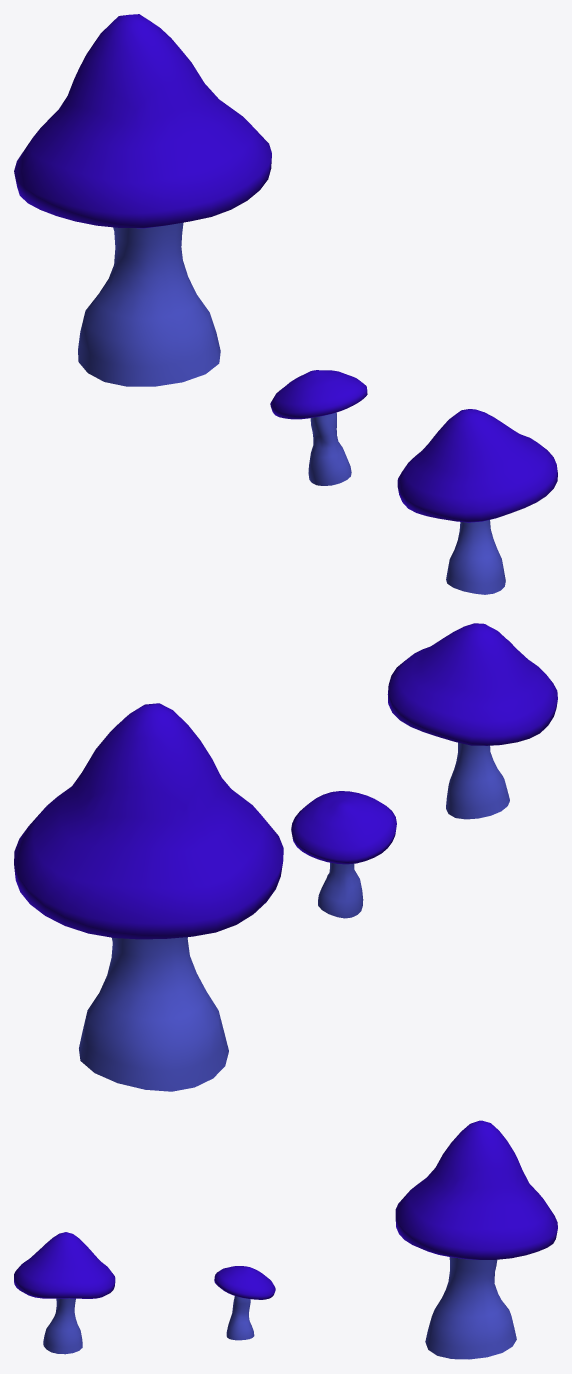
3 renders of one model, top to bottom at view 1: azimuth 30°, elevation 25°; view 2: azimuth 150°, elevation 25°; view 3: azimuth 270°, elevation 25°, orthographic. The views are drawn at different scales.
Visible parts, largest first — view 1: Hat 1, Stem1, Hat3, Hat2, Stem3, Stem2; view 2: Hat 1, Stem1, Hat3, Hat2, Stem3, Stem2; view 3: Hat 1, Stem1, Hat3, Stem3, Hat2, Stem2.
Boxes of the visible parts, bbox=[...] form: Hat 1: bbox=[14, 14, 271, 228]; Stem1: bbox=[78, 222, 220, 386]; Hat3: bbox=[397, 409, 557, 522]; Hat2: bbox=[270, 370, 367, 419]; Stem3: bbox=[446, 520, 505, 594]; Stem2: bbox=[308, 412, 351, 485]; Hat 1: bbox=[14, 703, 283, 939]; Stem1: bbox=[79, 937, 228, 1091]; Hat3: bbox=[387, 623, 557, 745]; Hat2: bbox=[291, 791, 396, 864]; Stem3: bbox=[446, 742, 509, 819]; Stem2: bbox=[318, 862, 363, 918]; Hat 1: bbox=[395, 1120, 557, 1259]; Stem1: bbox=[425, 1257, 516, 1359]; Hat3: bbox=[14, 1232, 115, 1298]; Stem3: bbox=[43, 1298, 82, 1354]; Hat2: bbox=[214, 1266, 275, 1299]; Stem2: bbox=[226, 1296, 254, 1340].
Bounding box in the file's own units: 139 × 208 × 466.
